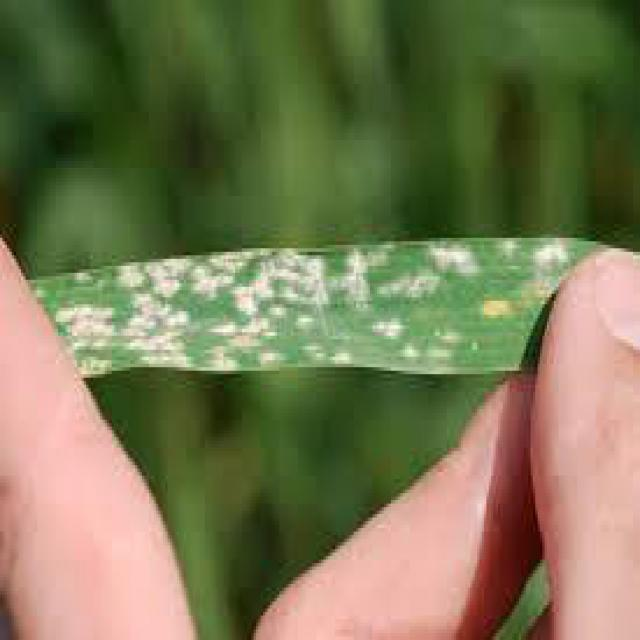wheat-powdery-mildew: (30, 237, 603, 378)
